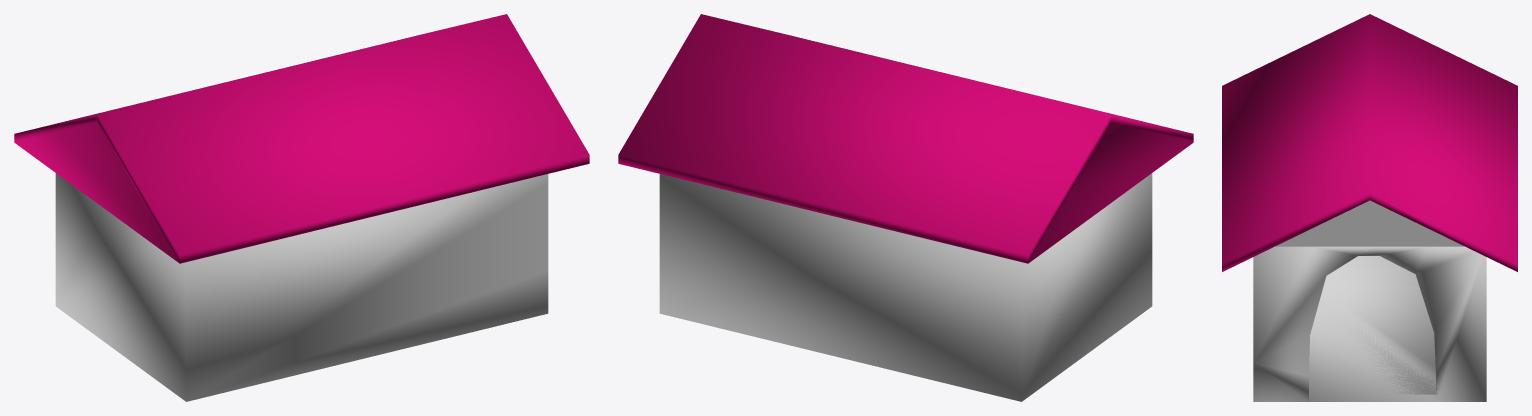
File: doghouse.1.fbx
3 renders of one model, left to right at view 1: azimuth 30°, elevation 25°; view 2: azimuth 150°, elevation 25°; view 3: azimuth 270°, elevation 25°, orthographic. The views are drawn at different scales.
Visible parts, largest first — view 1: 平面; view 2: 平面; view 3: 平面.
Part boxes in pixels (bbox=[...]): 平面: bbox=[14, 14, 589, 401]; 平面: bbox=[618, 14, 1193, 401]; 平面: bbox=[1222, 14, 1517, 401].
Size of the model in its own units: 4 by 2.29 by 2.8.
